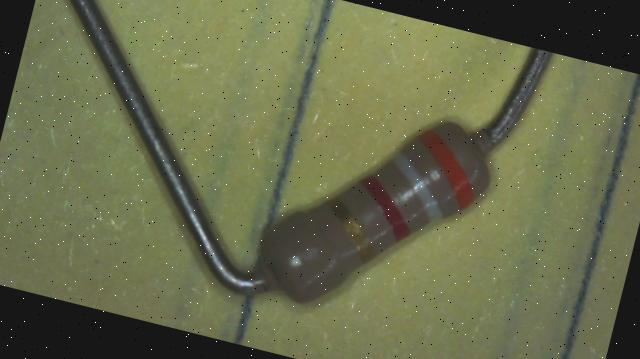gold: (318, 197, 384, 262)
orange: (403, 127, 488, 211)
red: (348, 173, 422, 242)
resistor: (224, 93, 524, 319)
white: (380, 152, 454, 226)
